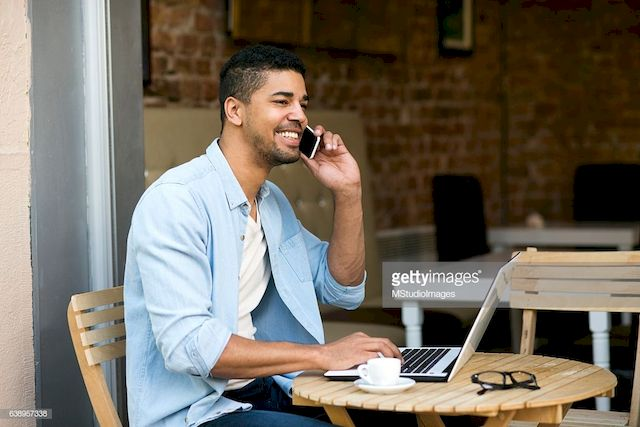phone: (294, 111, 328, 165)
talk: (262, 87, 357, 186)
